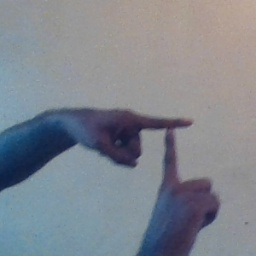T: (119, 100, 211, 198)
